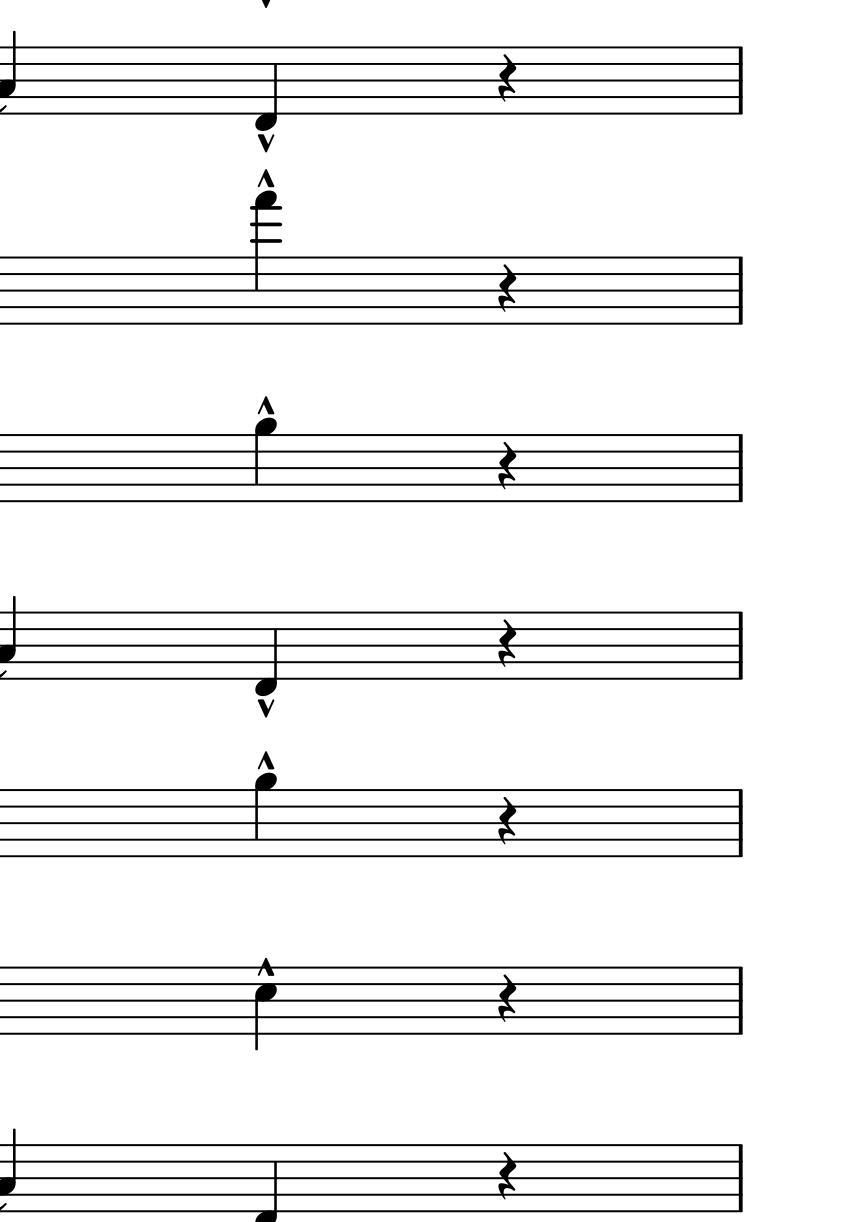4_-1: (253, 606, 282, 697), (254, 44, 278, 132)
4_15: (252, 190, 280, 326)
4_5: (250, 963, 278, 1053)
4_9: (252, 771, 278, 861), (251, 417, 278, 503)
Marcato_above: (254, 957, 277, 981), (254, 392, 276, 417), (256, 129, 278, 153), (256, 697, 278, 719), (256, 749, 276, 771), (256, 165, 274, 189)
Rests4: (494, 793, 522, 847), (495, 973, 520, 1027), (495, 1149, 519, 1201), (495, 261, 518, 315), (497, 618, 519, 670), (497, 441, 518, 493), (496, 55, 517, 104)
Single_barline: (726, 788, 757, 857), (728, 45, 756, 115), (726, 433, 754, 503), (723, 967, 752, 1034), (726, 1145, 755, 1211), (727, 612, 753, 679), (725, 256, 746, 327)
